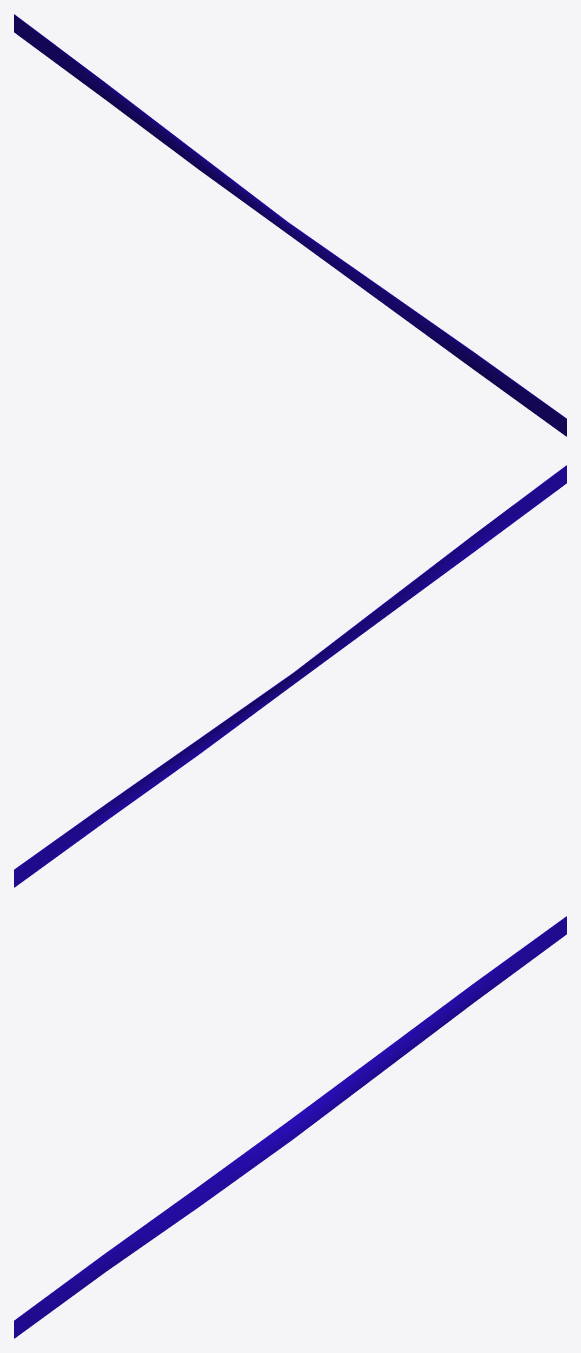
Rendered from SM_Police_Line_1_3m.FBX.
3 renders of one model, top to bottom at view 1: azimuth 30°, elevation 25°; view 2: azimuth 150°, elevation 25°; view 3: azimuth 330°, elevation 25°, orthographic.
Parts seen in each view (by area): view 1: Police_Line_1_3m; view 2: Police_Line_1_3m; view 3: Police_Line_1_3m.
Part boxes in pixels (box(x1,y1,x2,y2)): Police_Line_1_3m: box(14, 14, 566, 436); Police_Line_1_3m: box(14, 465, 566, 887); Police_Line_1_3m: box(14, 916, 566, 1338).
Size of the model in its own units: 1.78 by 6.29 by 300.
